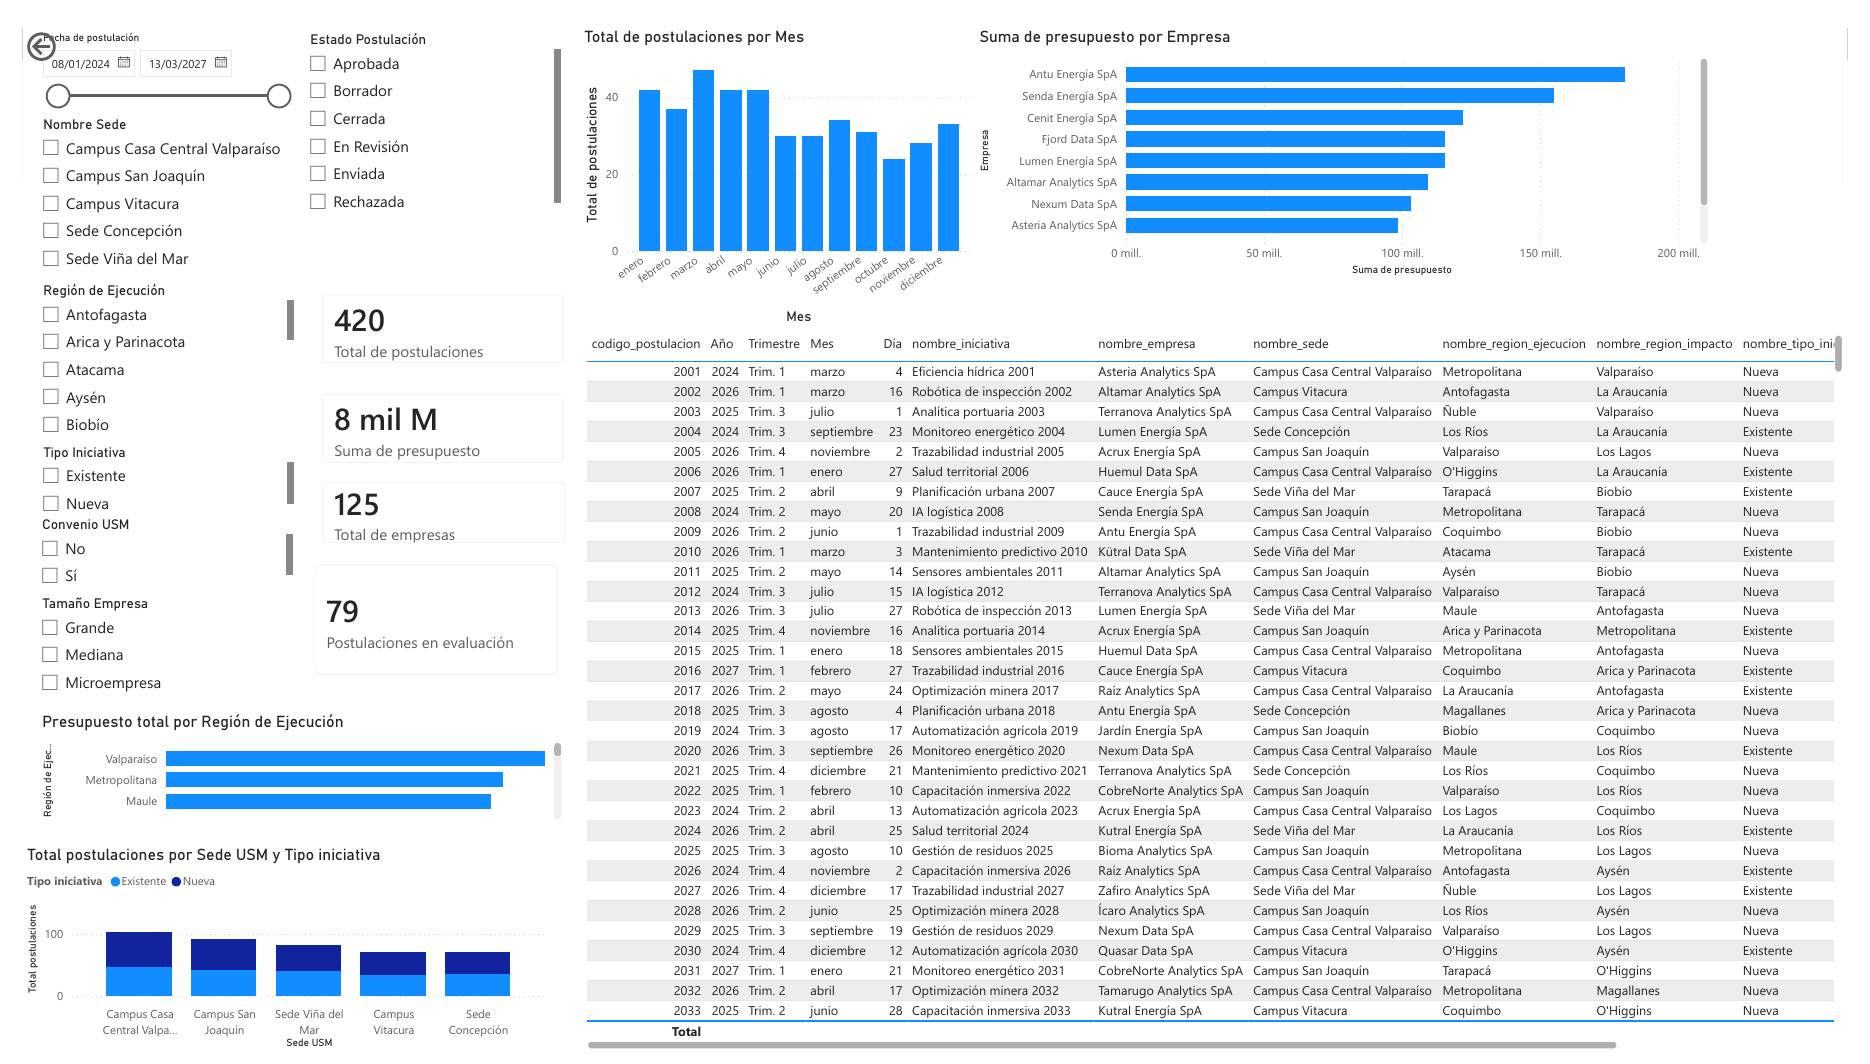

The dashboard page shown, as its layout file describes it:
{"tool":"powerbi","page":{"name":"Dashboard 1","canvas":[1920,1080],"ordinal":0},"visuals":[{"type":"slicer","fields":{"Values":["ct_usm_postulaciones vw_postulacion_gestion.fecha_postulacion"]},"box":[9,0,282,89],"z":0},{"type":"slicer","fields":{"Values":["ct_usm_postulaciones vw_postulacion_gestion.nombre_sede"]},"box":[9,89,282,175],"z":1000},{"type":"slicer","fields":{"Values":["ct_usm_postulaciones vw_postulacion_gestion.nombre_region_ejecucion"]},"box":[9,264,282,170],"z":2000},{"type":"slicer","fields":{"Values":["ct_usm_postulaciones vw_postulacion_gestion.nombre_tipo_iniciativa"]},"box":[9,434,282,84],"z":3000},{"type":"slicer","fields":{"Values":["ct_usm_postulaciones vw_postulacion_gestion.convenio_usm"]},"box":[8.3,510,281.7,83.3],"z":4000},{"type":"slicer","fields":{"Values":["ct_usm_postulaciones vw_postulacion_gestion.tamanio"]},"box":[8.3,593.3,281.7,118.3],"z":5000},{"type":"slicer","fields":{"Values":["ct_usm_postulaciones vw_postulacion_gestion.nombre_estado_postulacion"]},"box":[290,0,281.7,201.7],"z":6000},{"type":"cardVisual","fields":{"Data":["CountNonNull(ct_usm_postulaciones vw_postulacion_gestion.codigo_postulacion)"]},"box":[297.8,264.4,288.9,106.7],"z":7000},{"type":"cardVisual","fields":{"Data":["Sum(ct_usm_postulaciones vw_postulacion_gestion.presupuesto)"]},"box":[297.8,367.8,288.9,107.8],"z":8000},{"type":"actionButton","box":[0,0,100,40],"z":9000},{"type":"cardVisual","fields":{"Data":["CountNonNull(ct_usm_postulaciones empresa.nombre_empresa)"]},"box":[297.8,461.1,290,98.9],"z":10000},{"type":"clusteredColumnChart","fields":{"Y":["CountNonNull(ct_usm_postulaciones vw_postulacion_gestion.codigo_postulacion)"],"Category":["ct_usm_postulaciones vw_postulacion_gestion.fecha_postulacion.Variación.Jerarquía de fechas.Mes"]},"box":[586,0,416,318],"z":11000},{"type":"clusteredBarChart","fields":{"Y":["Sum(ct_usm_postulaciones vw_postulacion_gestion.presupuesto)"],"Category":["ct_usm_postulaciones vw_postulacion_gestion.nombre_empresa"]},"box":[1002,0,776,266],"z":12000},{"type":"cardVisual","fields":{"Data":["CountNonNull(ct_usm_postulaciones vw_postulacion_gestion.codigo_postulacion)"]},"box":[290,548.3,290,150],"z":13000},{"type":"clusteredBarChart","fields":{"Category":["ct_usm_postulaciones vw_postulacion_gestion.nombre_region_ejecucion"],"Y":["Sum(ct_usm_postulaciones vw_postulacion_gestion.presupuesto)"]},"box":[16,720,556,118],"z":14000},{"type":"columnChart","fields":{"Y":["CountNonNull(ct_usm_postulaciones vw_postulacion_gestion.codigo_postulacion)"],"Category":["ct_usm_postulaciones vw_postulacion_gestion.nombre_sede"],"Series":["ct_usm_postulaciones vw_postulacion_gestion.nombre_tipo_iniciativa"]},"box":[0,860,556,220],"z":15000},{"type":"tableEx","fields":{"Values":["ct_usm_postulaciones vw_postulacion_gestion.codigo_postulacion","ct_usm_postulaciones vw_postulacion_gestion.fecha_postulacion.Variación.Jerarquía de fechas.Año","ct_usm_postulaciones vw_postulacion_gestion.fecha_postulacion.Variación.Jerarquía de fechas.Trimestre","ct_usm_postulaciones vw_postulacion_gestion.fecha_postulacion.Variación.Jerarquía de fechas.Mes","ct_usm_postulaciones vw_postulacion_gestion.fecha_postulacion.Variación.Jerarquía de fechas.Día","ct_usm_postulaciones vw_postulacion_gestion.nombre_iniciativa","ct_usm_postulaciones vw_postulacion_gestion.nombre_empresa","ct_usm_postulaciones vw_postulacion_gestion.nombre_sede","ct_usm_postulaciones vw_postulacion_gestion.nombre_region_ejecucion","ct_usm_postulaciones vw_postulacion_gestion.nombre_region_impacto","ct_usm_postulaciones vw_postulacion_gestion.nombre_tipo_iniciativa","ct_usm_postulaciones vw_postulacion_gestion.convenio_usm"]},"box":[588,318,1332,762],"z":16000}]}

Visuals, with their boxes in screenshot pixels (x1, y1, x2, y2), scaled from the page's 1920x1080 canvas onto the 1870x1064 screenshot:
slicer - ct_usm_postulaciones vw_postulacion_gestion.fecha_postulacion: (9, 0, 283, 88)
slicer - ct_usm_postulaciones vw_postulacion_gestion.nombre_sede: (9, 88, 283, 260)
slicer - ct_usm_postulaciones vw_postulacion_gestion.nombre_region_ejecucion: (9, 260, 283, 428)
slicer - ct_usm_postulaciones vw_postulacion_gestion.nombre_tipo_iniciativa: (9, 428, 283, 510)
slicer - ct_usm_postulaciones vw_postulacion_gestion.convenio_usm: (8, 502, 282, 585)
slicer - ct_usm_postulaciones vw_postulacion_gestion.tamanio: (8, 585, 282, 701)
slicer - ct_usm_postulaciones vw_postulacion_gestion.nombre_estado_postulacion: (282, 0, 557, 199)
cardVisual - CountNonNull(ct_usm_postulaciones vw_postulacion_gestion.codigo_postulacion): (290, 260, 571, 366)
cardVisual - Sum(ct_usm_postulaciones vw_postulacion_gestion.presupuesto): (290, 362, 571, 469)
actionButton: (0, 0, 97, 39)
cardVisual - CountNonNull(ct_usm_postulaciones empresa.nombre_empresa): (290, 454, 572, 552)
clusteredColumnChart - CountNonNull(ct_usm_postulaciones vw_postulacion_gestion.codigo_postulacion) x ct_usm_postulaciones vw_postulacion_gestion.fecha_postulacion.Variación.Jerarquía de fechas.Mes: (571, 0, 976, 313)
clusteredBarChart - Sum(ct_usm_postulaciones vw_postulacion_gestion.presupuesto) x ct_usm_postulaciones vw_postulacion_gestion.nombre_empresa: (976, 0, 1732, 262)
cardVisual - CountNonNull(ct_usm_postulaciones vw_postulacion_gestion.codigo_postulacion): (282, 540, 565, 688)
clusteredBarChart - ct_usm_postulaciones vw_postulacion_gestion.nombre_region_ejecucion x Sum(ct_usm_postulaciones vw_postulacion_gestion.presupuesto): (16, 709, 557, 826)
columnChart - CountNonNull(ct_usm_postulaciones vw_postulacion_gestion.codigo_postulacion) x ct_usm_postulaciones vw_postulacion_gestion.nombre_sede: (0, 847, 542, 1063)
tableEx - ct_usm_postulaciones vw_postulacion_gestion.codigo_postulacion x ct_usm_postulaciones vw_postulacion_gestion.fecha_postulacion.Variación.Jerarquía de fechas.Año: (573, 313, 1869, 1063)
